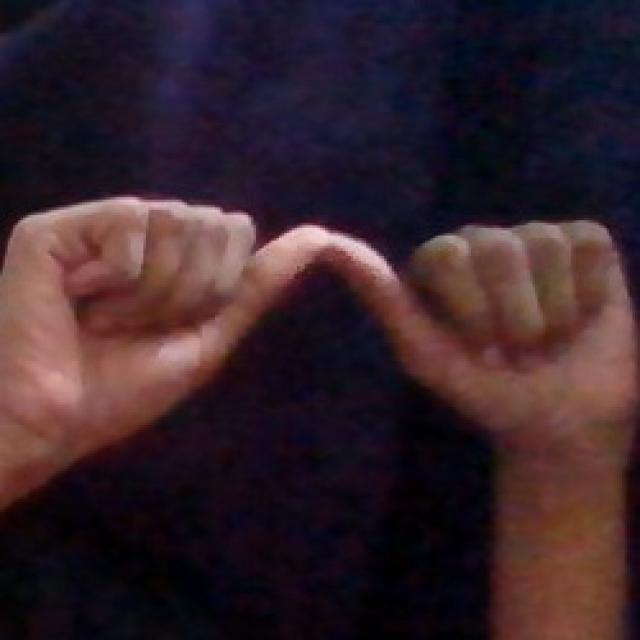Alphabet-A: (8, 194, 625, 460)
